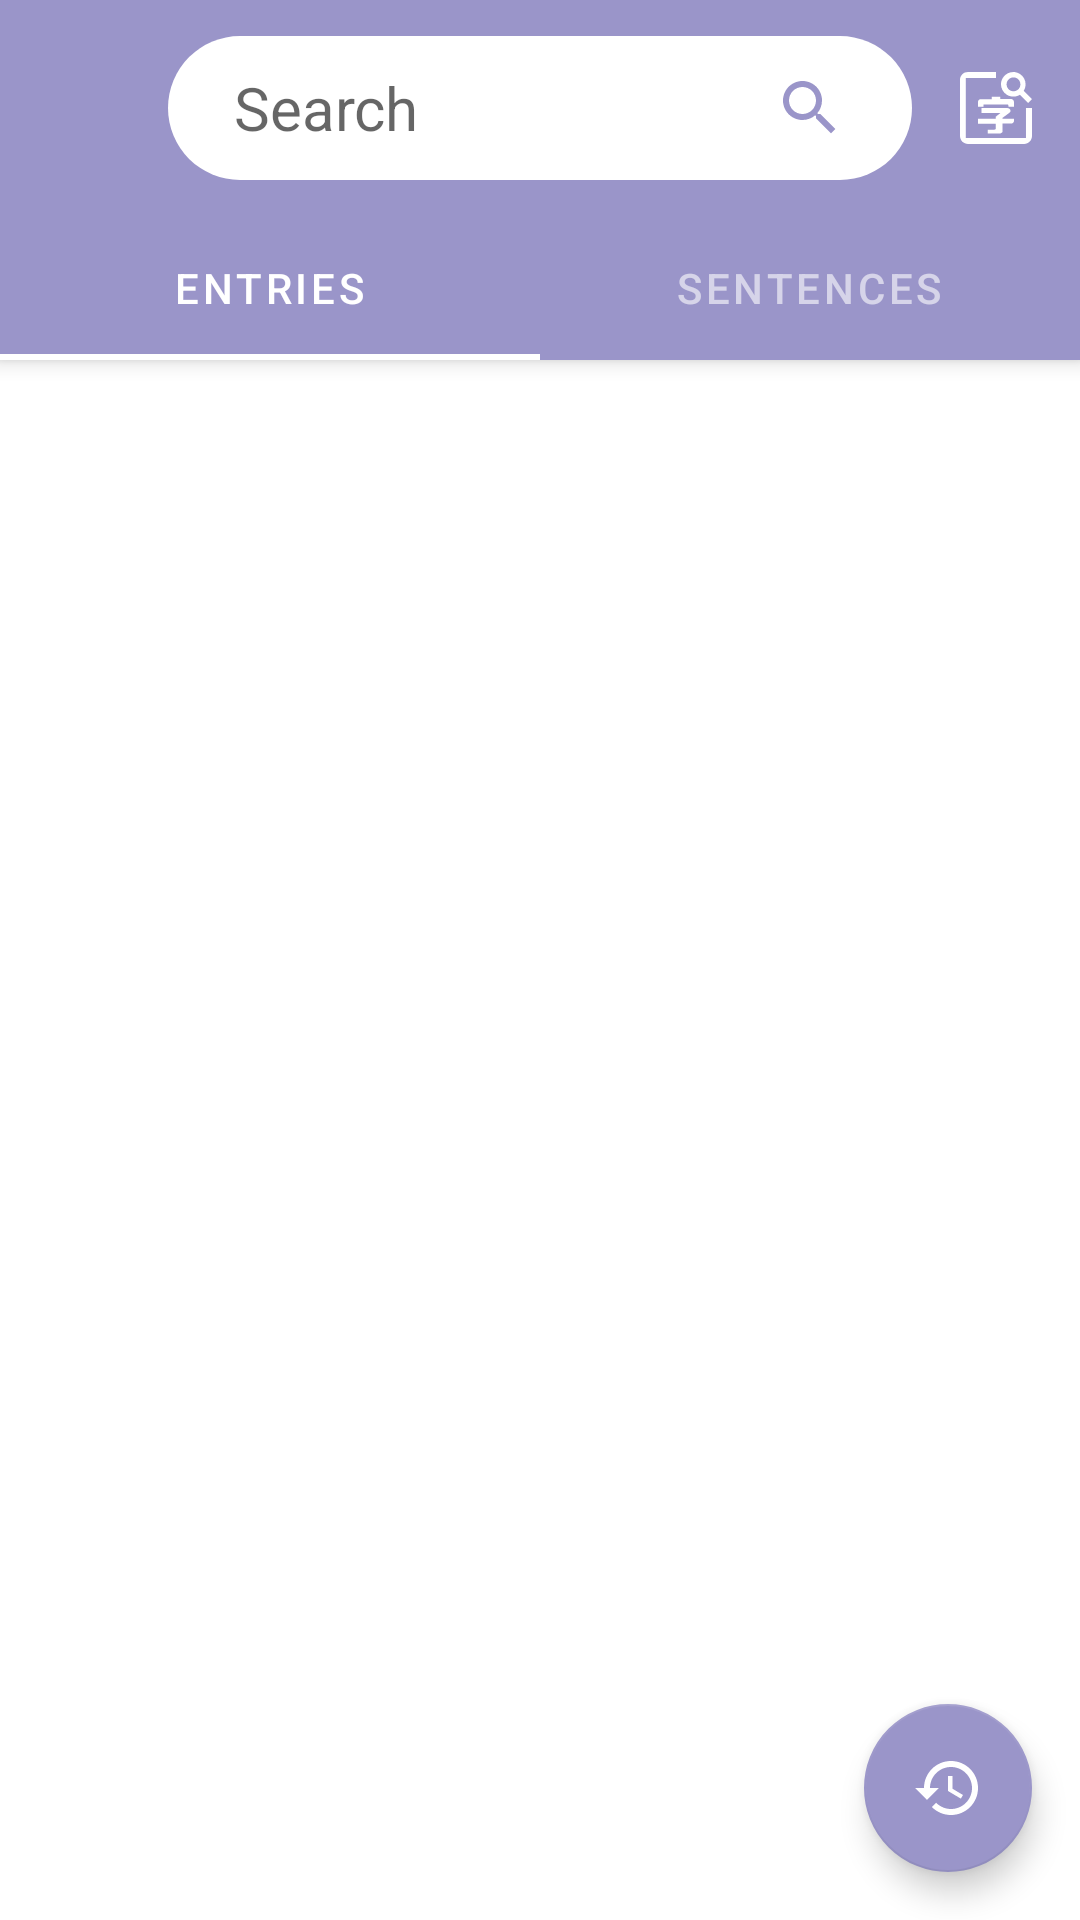

Locate icon controls on the screen. Image size 1080px×1920px, boxes as (x1, y1, x2, y2).
History: (864, 1704, 1032, 1872)
radical search: (960, 72, 1032, 144)
